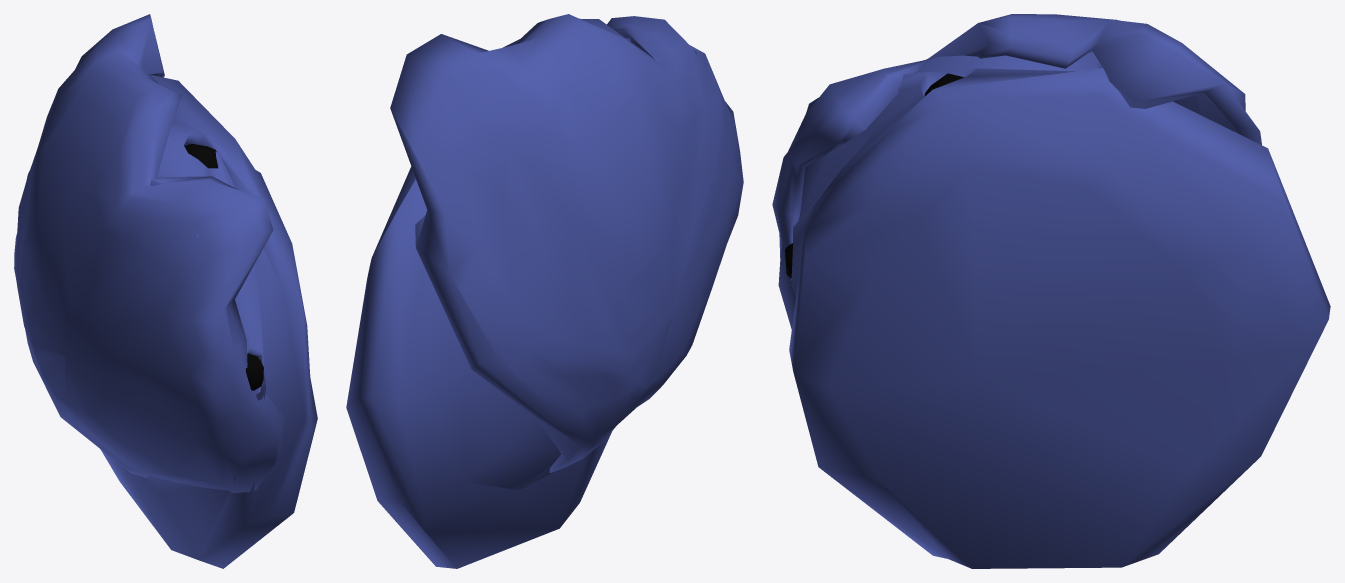
Rendered from inky_walltoidle.fbx.
3 views of the same model, side by side, from view 1: azimuth 30°, elevation 25°; view 2: azimuth 150°, elevation 25°; view 3: azimuth 270°, elevation 25° (orthographic). The views are drawn at different scales.
Visible parts, largest first — view 1: inky_animation35; view 2: inky_animation35; view 3: inky_animation35.
Part boxes in pixels (box(x1,y1,x2,y2)): inky_animation35: box(14, 14, 317, 568); inky_animation35: box(346, 14, 743, 568); inky_animation35: box(772, 14, 1330, 568).
Bounding box in the file's own units: 38.28 × 91.41 × 86.62.
Materials: 1 (1 with a texture image).
